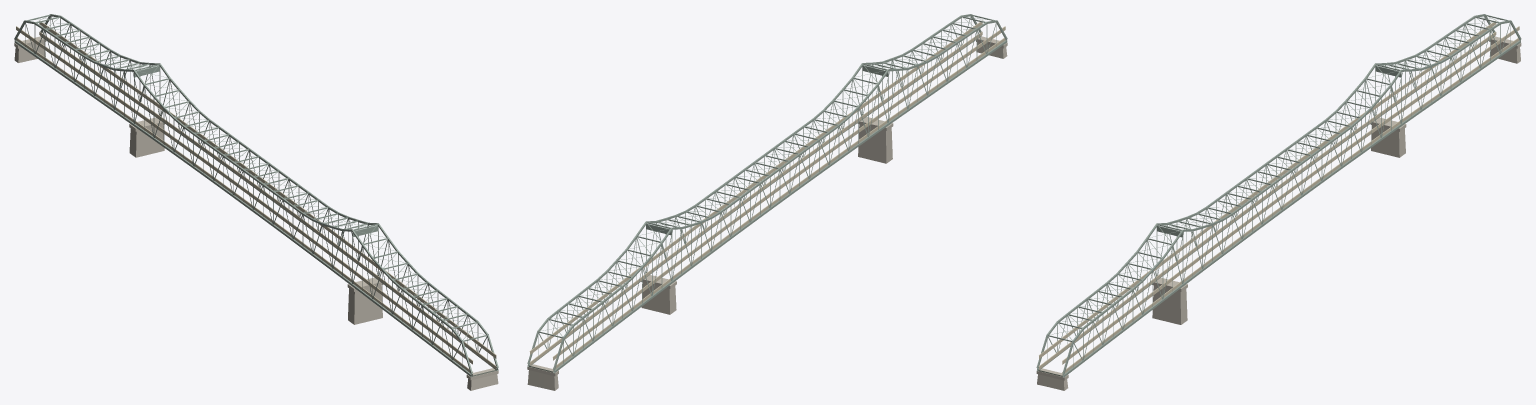
The model's file is cin-brent-spence-bridge.glb.
The picture shows the model from 3 angles, left to right: view 1: azimuth 30°, elevation 25°; view 2: azimuth 150°, elevation 25°; view 3: azimuth 330°, elevation 25°; orthographic projection.
Parts seen in each view (by area): view 1: Brent Spence Bridge; view 2: Brent Spence Bridge; view 3: Brent Spence Bridge.
Part boxes in pixels (x1=…): Brent Spence Bridge: x1=14, y1=14, x2=498, y2=390; Brent Spence Bridge: x1=527, y1=14, x2=1007, y2=390; Brent Spence Bridge: x1=1036, y1=14, x2=1521, y2=390.
Size of the model in its own units: 19.6 by 59.11 by 530.
